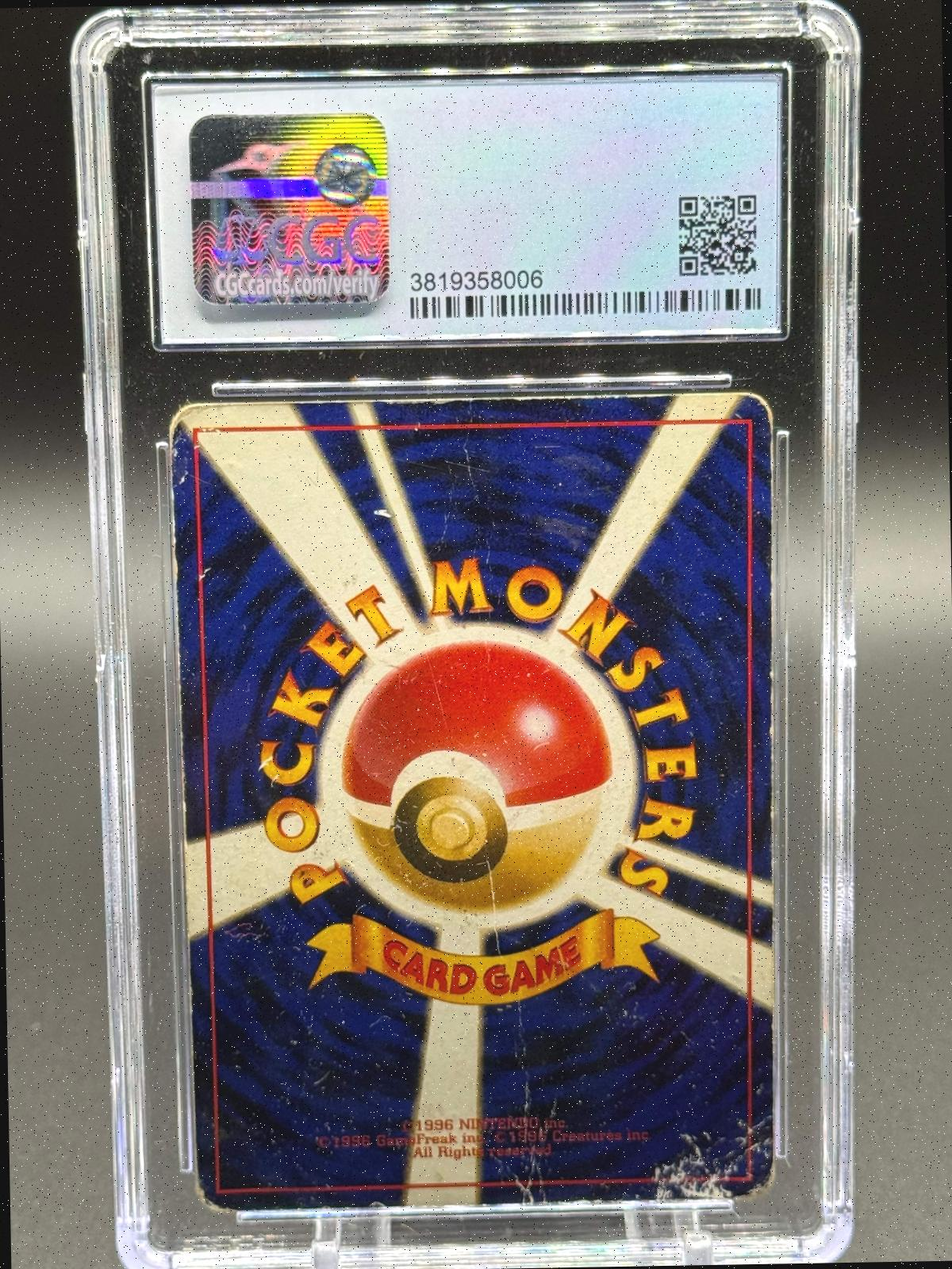card-2UtV: (168, 388, 777, 1215)
